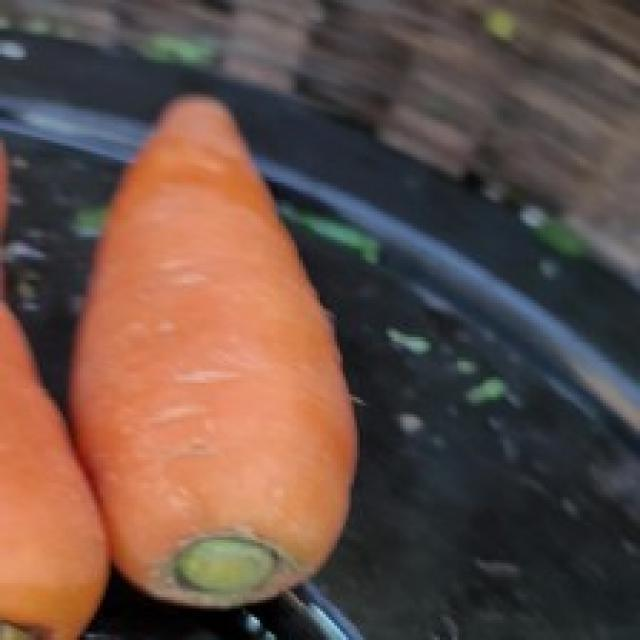carrot: (85, 84, 365, 620)
